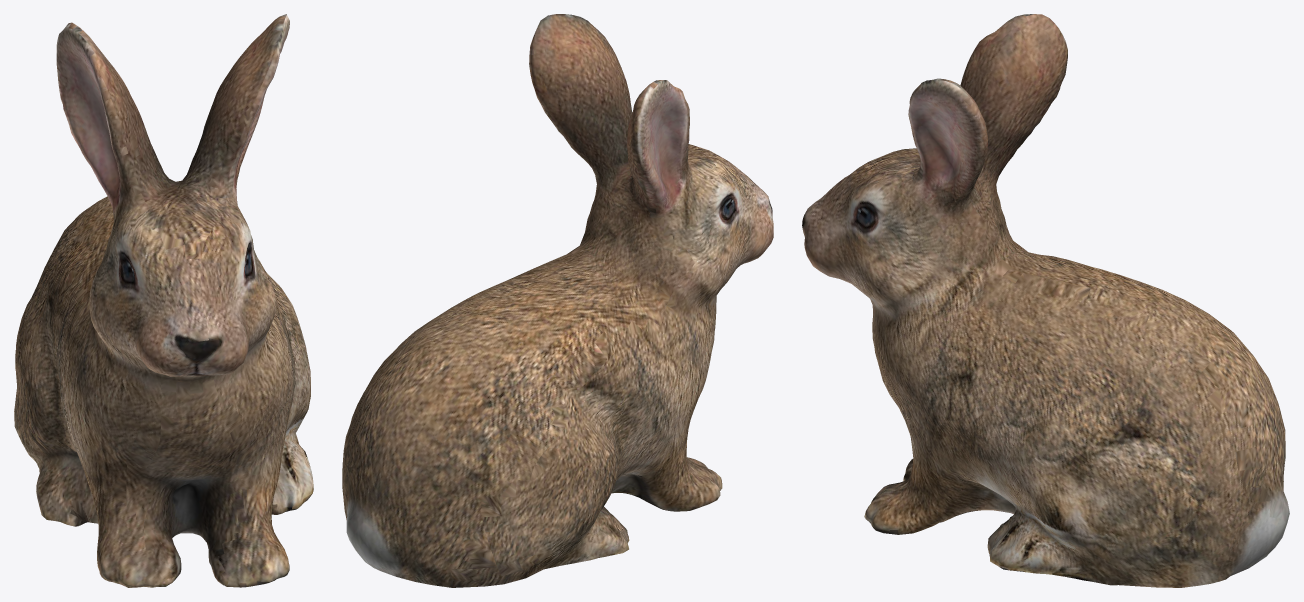
File: rabbit.gltf
3 views of the same model, side by side, from view 1: azimuth 30°, elevation 25°; view 2: azimuth 150°, elevation 25°; view 3: azimuth 270°, elevation 25° (orthographic). The views are drawn at different scales.
Visible parts, largest first — view 1: 动物_兔; view 2: 动物_兔; view 3: 动物_兔.
Boxes of the visible parts, left/top/right/bottom form: 动物_兔: left=14, top=14, right=313, bottom=587; 动物_兔: left=342, top=14, right=773, bottom=587; 动物_兔: left=802, top=14, right=1289, bottom=587.
Bounding box in the file's own units: 0.0353 × 0.0578 × 0.0549.
1 material, 1 textured.
